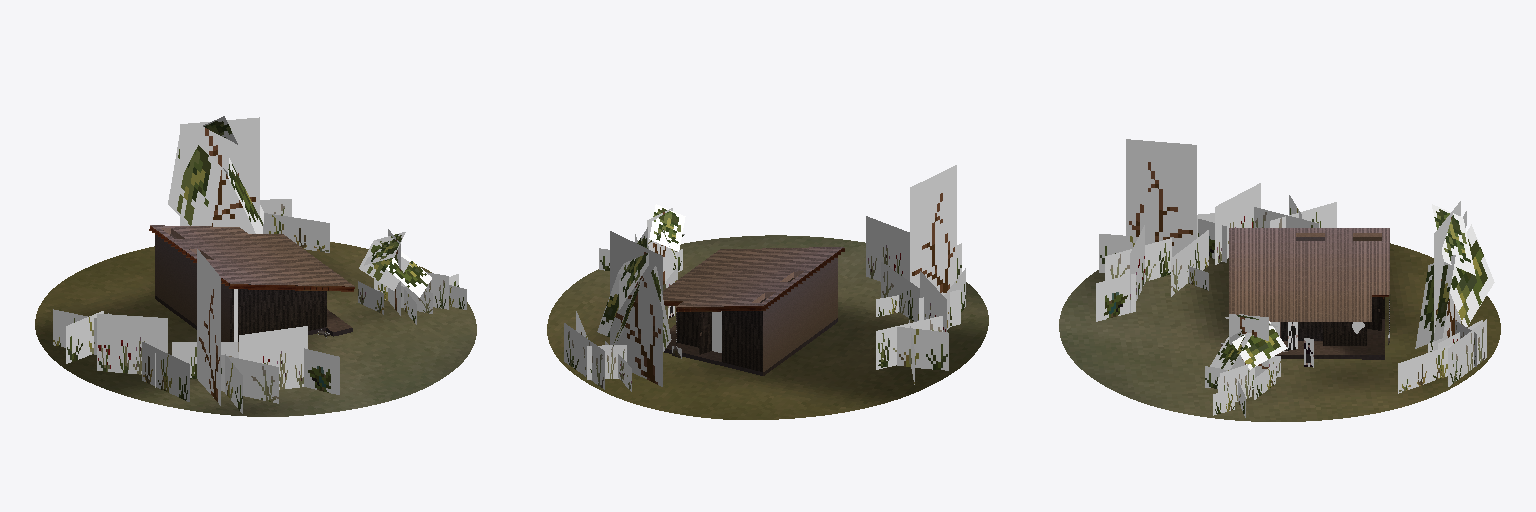
3 views of the same model, side by side, from view 1: azimuth 30°, elevation 25°; view 2: azimuth 150°, elevation 25°; view 3: azimuth 270°, elevation 25° (orthographic).
Bounding box in the file's own units: 1000 × 369 × 1000.
1 materials, 1 textured.